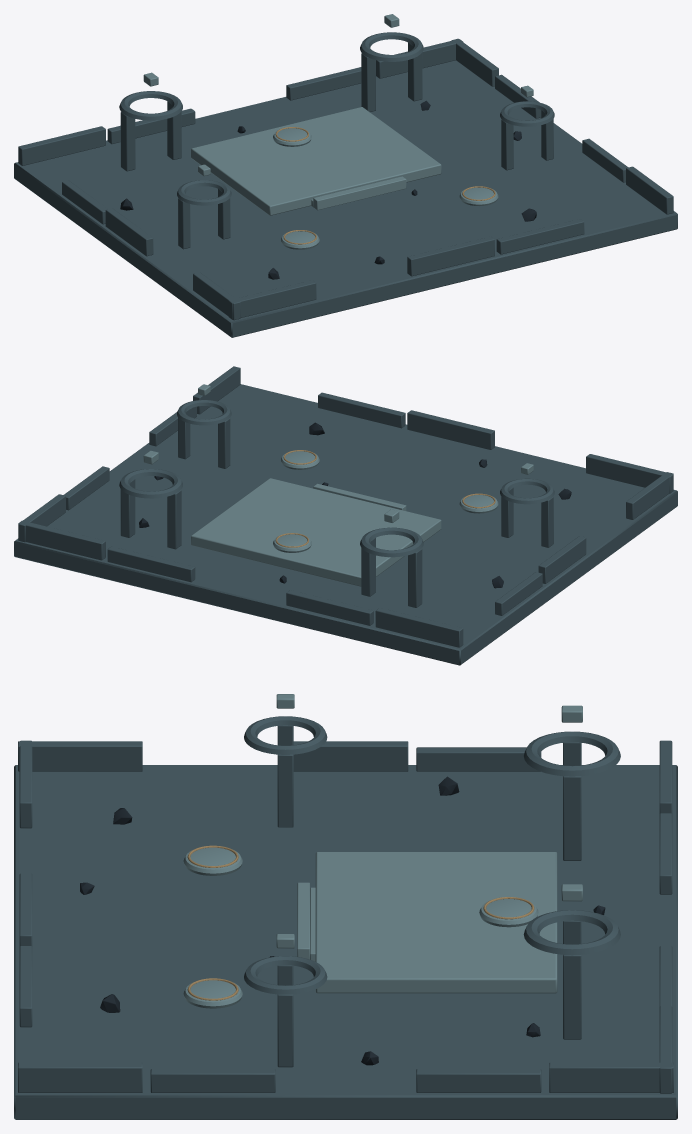
The model's file is shrine_terrace.glb.
3 views of the same model, one above another, from view 1: azimuth 30°, elevation 25°; view 2: azimuth 150°, elevation 25°; view 3: azimuth 270°, elevation 25° (orthographic). The views are drawn at different scales.
Visible parts, largest first — view 1: Deck, Sanctum, Parapet_south_2, Parapet_north_0, Parapet_south_0, Parapet_south_3, Step_2, Parapet_north_3, Parapet_north_4, Parapet_west_2, Parapet_east_0, Arch_NE_Band (+20 smaller); view 2: Deck, Sanctum, Parapet_north_0, Parapet_south_2, Parapet_north_4, Parapet_south_0, Parapet_north_3, Parapet_north_1, Parapet_south_3, Parapet_west_2, Arch_NW_Band, Arch_NE_Band (+20 smaller); view 3: Deck, Sanctum, Parapet_east_0, Parapet_west_0, Parapet_east_4, Parapet_west_2, Parapet_east_1, Parapet_east_3, Parapet_west_3, Arch_NW_Band, Arch_NE_Band, Arch_E_Band (+16 smaller).
Part boxes in pixels (box(x1,y1,x2,y2)): Deck: box(14, 60, 677, 337); Sanctum: box(191, 107, 441, 215); Parapet_south_2: box(407, 236, 494, 276); Parapet_north_0: box(18, 126, 105, 165); Parapet_south_0: box(228, 280, 316, 319); Parapet_south_3: box(496, 219, 584, 254); Step_2: box(313, 176, 406, 210); Parapet_north_3: box(286, 67, 361, 100); Parapet_north_4: box(376, 39, 462, 78); Parapet_west_2: box(105, 208, 153, 256); Parapet_east_0: box(626, 166, 673, 214); Arch_NE_Band: box(360, 32, 423, 61); Deck: box(14, 384, 677, 665); Sanctum: box(191, 478, 441, 586); Parapet_north_0: box(375, 608, 463, 647); Parapet_south_2: box(407, 410, 494, 449); Parapet_north_4: box(18, 520, 105, 560); Parapet_south_0: box(586, 454, 673, 493); Parapet_north_3: box(107, 546, 195, 582); Parapet_north_1: box(286, 590, 373, 625); Parapet_south_3: box(318, 392, 405, 428); Parapet_west_2: box(538, 536, 586, 583); Arch_NW_Band: box(360, 527, 423, 557); Arch_NE_Band: box(119, 469, 182, 498); Deck: box(14, 765, 677, 1119); Sanctum: box(315, 852, 557, 993); Parapet_east_0: box(18, 1062, 142, 1092); Parapet_west_0: box(18, 741, 142, 771); Parapet_east_4: box(549, 1062, 673, 1092); Parapet_west_2: box(293, 741, 408, 771); Parapet_east_1: box(150, 1069, 275, 1092); Parapet_east_3: box(416, 1069, 541, 1092); Parapet_west_3: box(416, 747, 541, 771); Arch_NW_Band: box(524, 731, 620, 776); Arch_NE_Band: box(523, 910, 620, 955); Arch_E_Band: box(244, 956, 327, 994).
Size of the model in its own units: 26 by 5.74 by 22.
